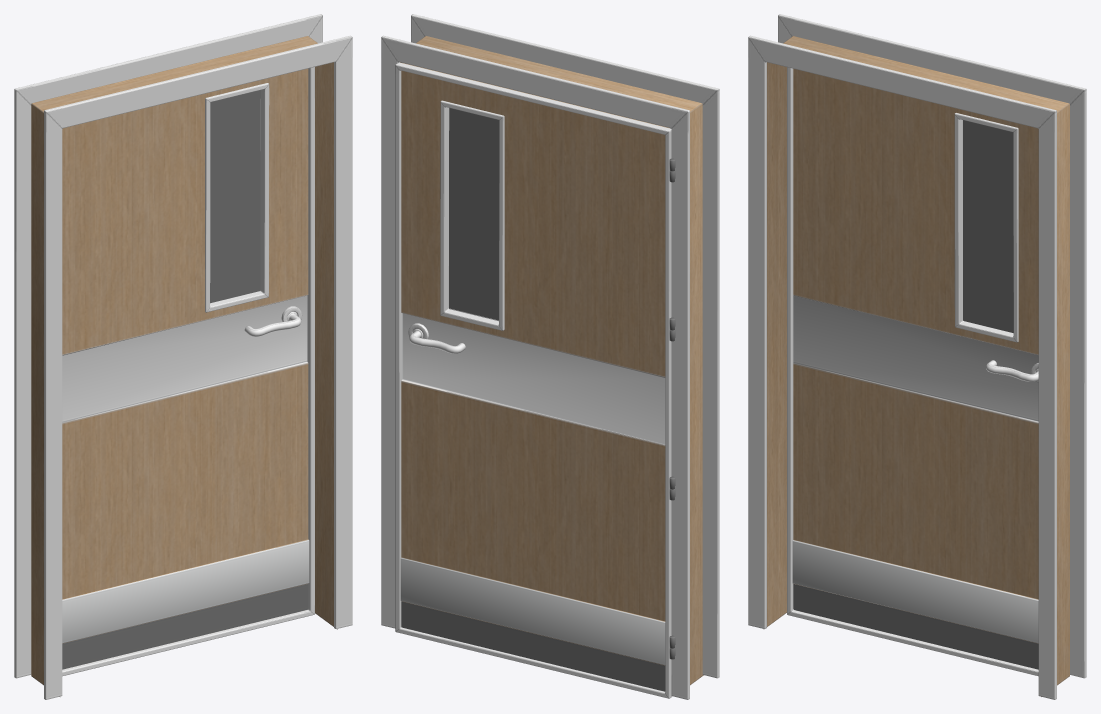
File: hospitaldoor.glb
3 renders of one model, left to right at view 1: azimuth 30°, elevation 25°; view 2: azimuth 150°, elevation 25°; view 3: azimuth 330°, elevation 25°, orthographic.
Visible parts, largest first — view 1: SingkeHospitalDoor, SingkeHospitalDoor.001; view 2: SingkeHospitalDoor, SingkeHospitalDoor.001; view 3: SingkeHospitalDoor, SingkeHospitalDoor.001.
Boxes of the visible parts, left/top/right/bottom form: SingkeHospitalDoor: left=62, top=67, right=314, bottom=676; SingkeHospitalDoor.001: left=14, top=14, right=352, bottom=699; SingkeHospitalDoor: left=395, top=62, right=675, bottom=698; SingkeHospitalDoor.001: left=381, top=14, right=719, bottom=699; SingkeHospitalDoor: left=787, top=67, right=1038, bottom=676; SingkeHospitalDoor.001: left=748, top=14, right=1086, bottom=699.
Size of the model in its own units: 1.14 by 2.09 by 0.2646.
1 material, 1 textured.
